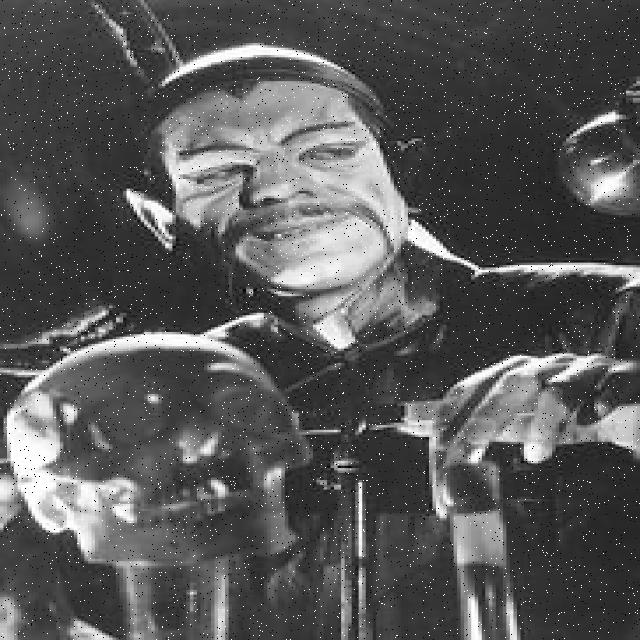picture: (6, 1, 634, 639)
